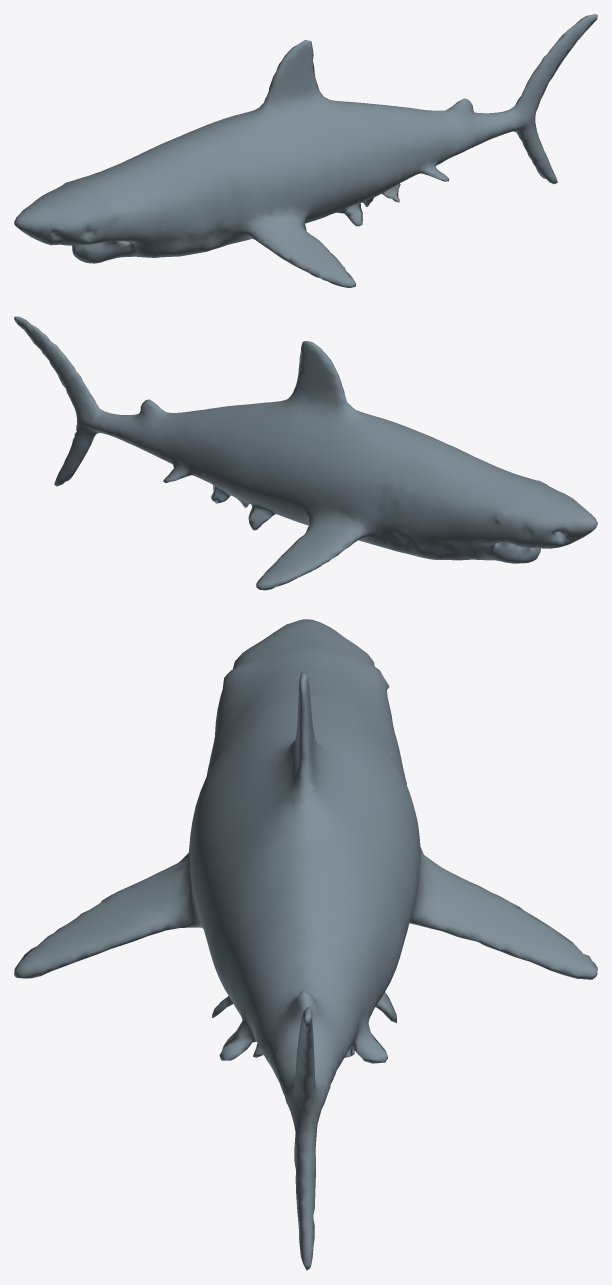
The model's file is shark.obj.
3 renders of one model, top to bottom at view 1: azimuth 30°, elevation 25°; view 2: azimuth 150°, elevation 25°; view 3: azimuth 270°, elevation 25°, orthographic. The views are drawn at different scales.
Size of the model in its own units: 2 by 0.673 by 0.9554.
